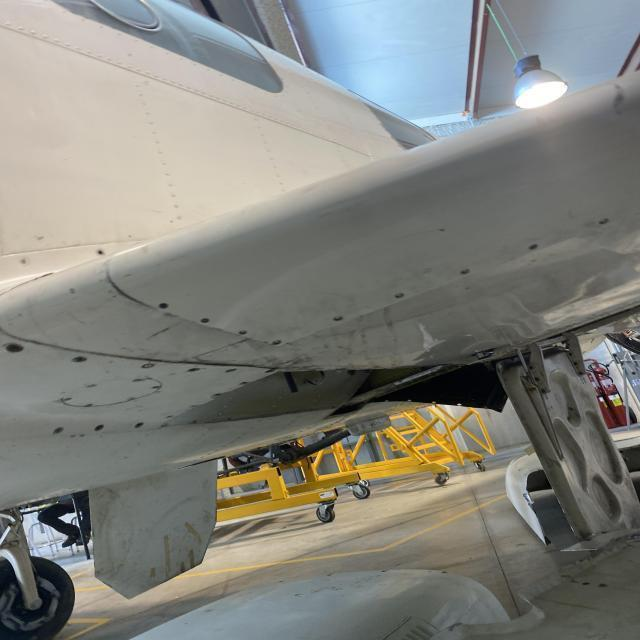Crack: (0, 272, 55, 296)
Missing_Fastener: (8, 344, 24, 354), (92, 422, 106, 432), (72, 356, 87, 364), (53, 426, 64, 436), (332, 315, 344, 323), (271, 338, 282, 346), (132, 423, 146, 429), (160, 302, 170, 310), (210, 392, 222, 398), (201, 317, 211, 324), (239, 380, 249, 387), (187, 367, 200, 372), (239, 330, 249, 336), (266, 369, 276, 375), (225, 368, 237, 373)
